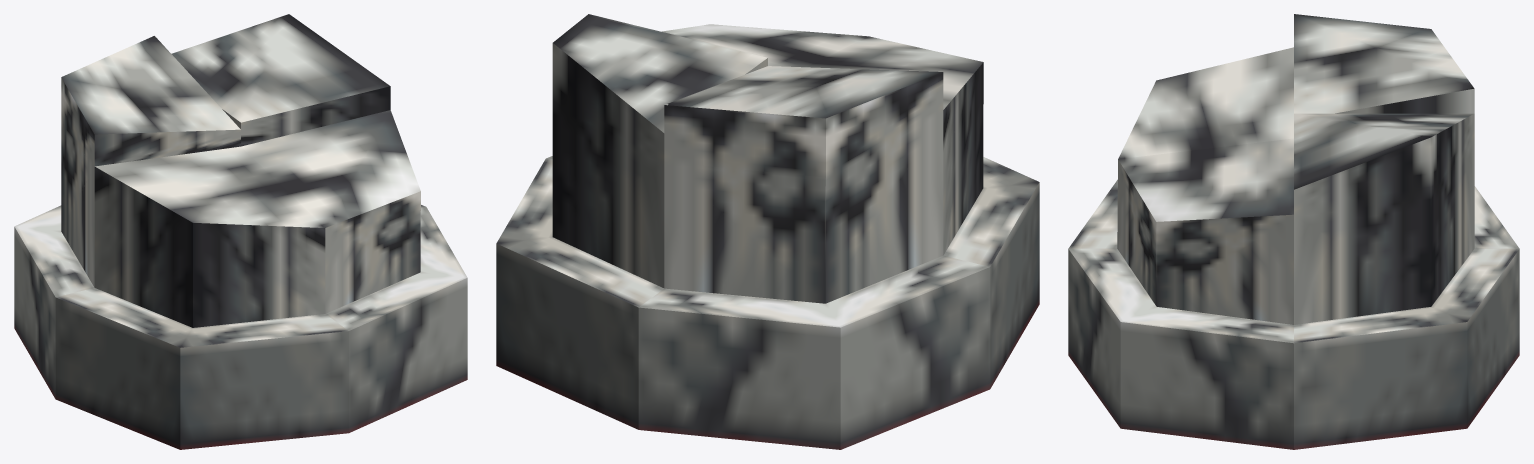
The model's file is Inside_Poly_Round_Pillar_02.obj.
The picture shows the model from 3 angles, left to right: view 1: azimuth 30°, elevation 25°; view 2: azimuth 150°, elevation 25°; view 3: azimuth 270°, elevation 25°; orthographic projection. The views are drawn at different scales.
Parts seen in each view (by area): view 1: Cube.001; view 2: Cube.001; view 3: Cube.001.
Part boxes in pixels (bbox=[...]): Cube.001: bbox=[14, 14, 467, 449]; Cube.001: bbox=[496, 14, 1039, 449]; Cube.001: bbox=[1068, 14, 1519, 449].
Size of the model in its own units: 1.14 by 0.7764 by 1.15.
Materials: 1 (1 with a texture image).
